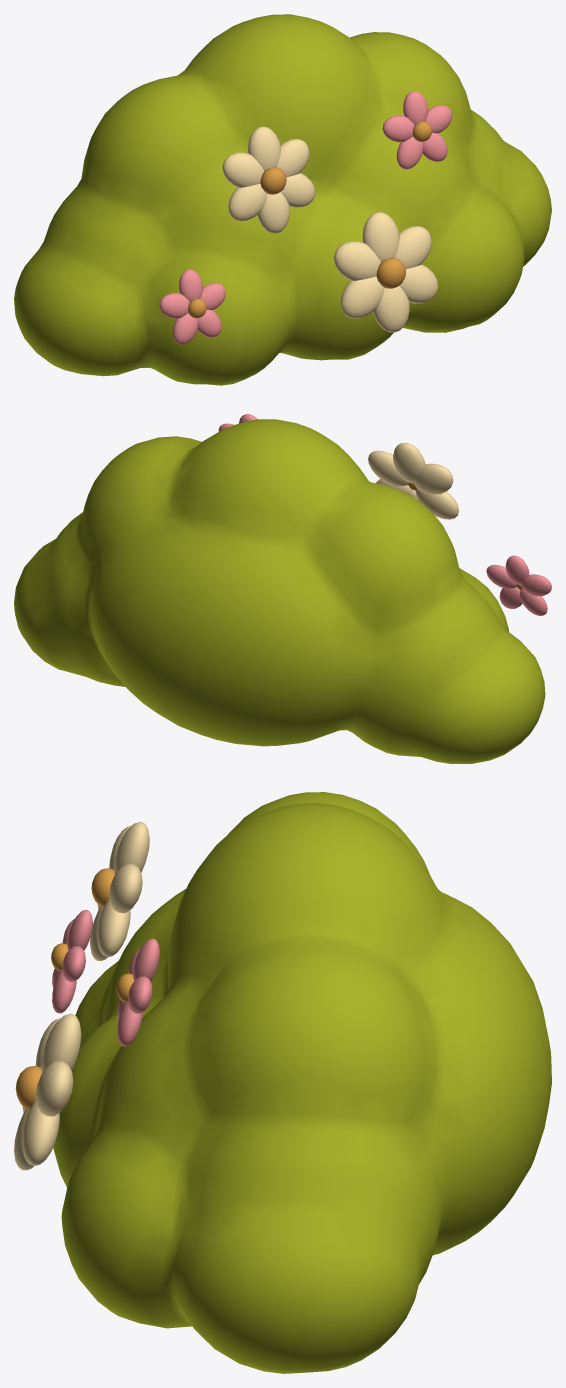
File: pastel_flower_bush.glb
3 renders of one model, top to bottom at view 1: azimuth 30°, elevation 25°; view 2: azimuth 150°, elevation 25°; view 3: azimuth 270°, elevation 25°, orthographic. The views are drawn at different scales.
Parts seen in each view (by area): view 1: cloud_bush, bush_flower_3_petal.005, bush_flower_3_petal.004, bush_flower_3_petal, bush_flower_3_petal.003, bush_flower_3_petal.001, bush_flower_0_petal.005, bush_flower_3_petal.002, bush_flower_0_petal.004, bush_flower_0_petal, bush_flower_0_petal.003, bush_flower_0_petal.001 (+13 smaller); view 2: cloud_bush, bush_flower_0_petal.005, bush_flower_0_petal, bush_flower_0_petal.001, bush_flower_0_petal.004, bush_flower_2_petal, bush_flower_2_petal.004, bush_flower_2_petal.003, bush_flower_2_petal.001; view 3: cloud_bush, bush_flower_3_petal.002, bush_flower_3_petal.001, bush_flower_3_petal, bush_flower_0_petal.002, bush_flower_0_petal.001, bush_flower_0_petal, bush_flower_1_petal, bush_flower_3_center, bush_flower_1_petal.002, bush_flower_2_petal, bush_flower_1_petal.001 (+1 smaller).
Part boxes in pixels (left/top/right/bottom): cloud_bush: left=14, top=14, right=551, bottom=385; bush_flower_3_petal.005: left=334, top=241, right=381, bottom=280; bush_flower_3_petal.004: left=340, top=276, right=384, bottom=318; bush_flower_3_petal: left=362, top=212, right=399, bottom=261; bush_flower_3_petal.003: left=373, top=286, right=409, bottom=332; bush_flower_3_petal.001: left=394, top=226, right=431, bottom=268; bush_flower_0_petal.005: left=222, top=152, right=264, bottom=187; bush_flower_3_petal.002: left=399, top=264, right=438, bottom=303; bush_flower_0_petal.004: left=228, top=183, right=267, bottom=221; bush_flower_0_petal: left=248, top=126, right=280, bottom=170; bush_flower_0_petal.003: left=257, top=192, right=289, bottom=233; bush_flower_0_petal.001: left=276, top=139, right=309, bottom=177; cloud_bush: left=14, top=419, right=545, bottom=763; bush_flower_0_petal.005: left=414, top=463, right=453, bottom=494; bush_flower_0_petal: left=393, top=442, right=425, bottom=483; bush_flower_0_petal.001: left=368, top=450, right=409, bottom=486; bush_flower_0_petal.004: left=415, top=488, right=458, bottom=519; bush_flower_2_petal: left=505, top=555, right=529, bottom=584; bush_flower_2_petal.004: left=521, top=574, right=551, bottom=596; bush_flower_2_petal.003: left=520, top=589, right=547, bottom=615; bush_flower_2_petal.001: left=486, top=564, right=517, bottom=589; cloud_bush: left=53, top=792, right=551, bottom=1373; bush_flower_3_petal.002: left=22, top=1101, right=59, bottom=1165; bush_flower_3_petal.001: left=35, top=1061, right=73, bottom=1116; bush_flower_3_petal: left=41, top=1013, right=81, bottom=1073; bush_flower_0_petal.002: left=97, top=899, right=130, bottom=956; bush_flower_0_petal.001: left=109, top=864, right=142, bottom=913; bush_flower_0_petal: left=114, top=821, right=149, bottom=874; bush_flower_1_petal: left=133, top=938, right=159, bottom=981; bush_flower_3_center: left=15, top=1066, right=41, bottom=1109; bush_flower_1_petal.002: left=117, top=1001, right=142, bottom=1046; bush_flower_2_petal: left=67, top=910, right=92, bottom=950; bush_flower_1_petal.001: left=128, top=976, right=152, bottom=1013.
Bounding box in the file's own units: 1.63 × 0.85 × 1.04.
